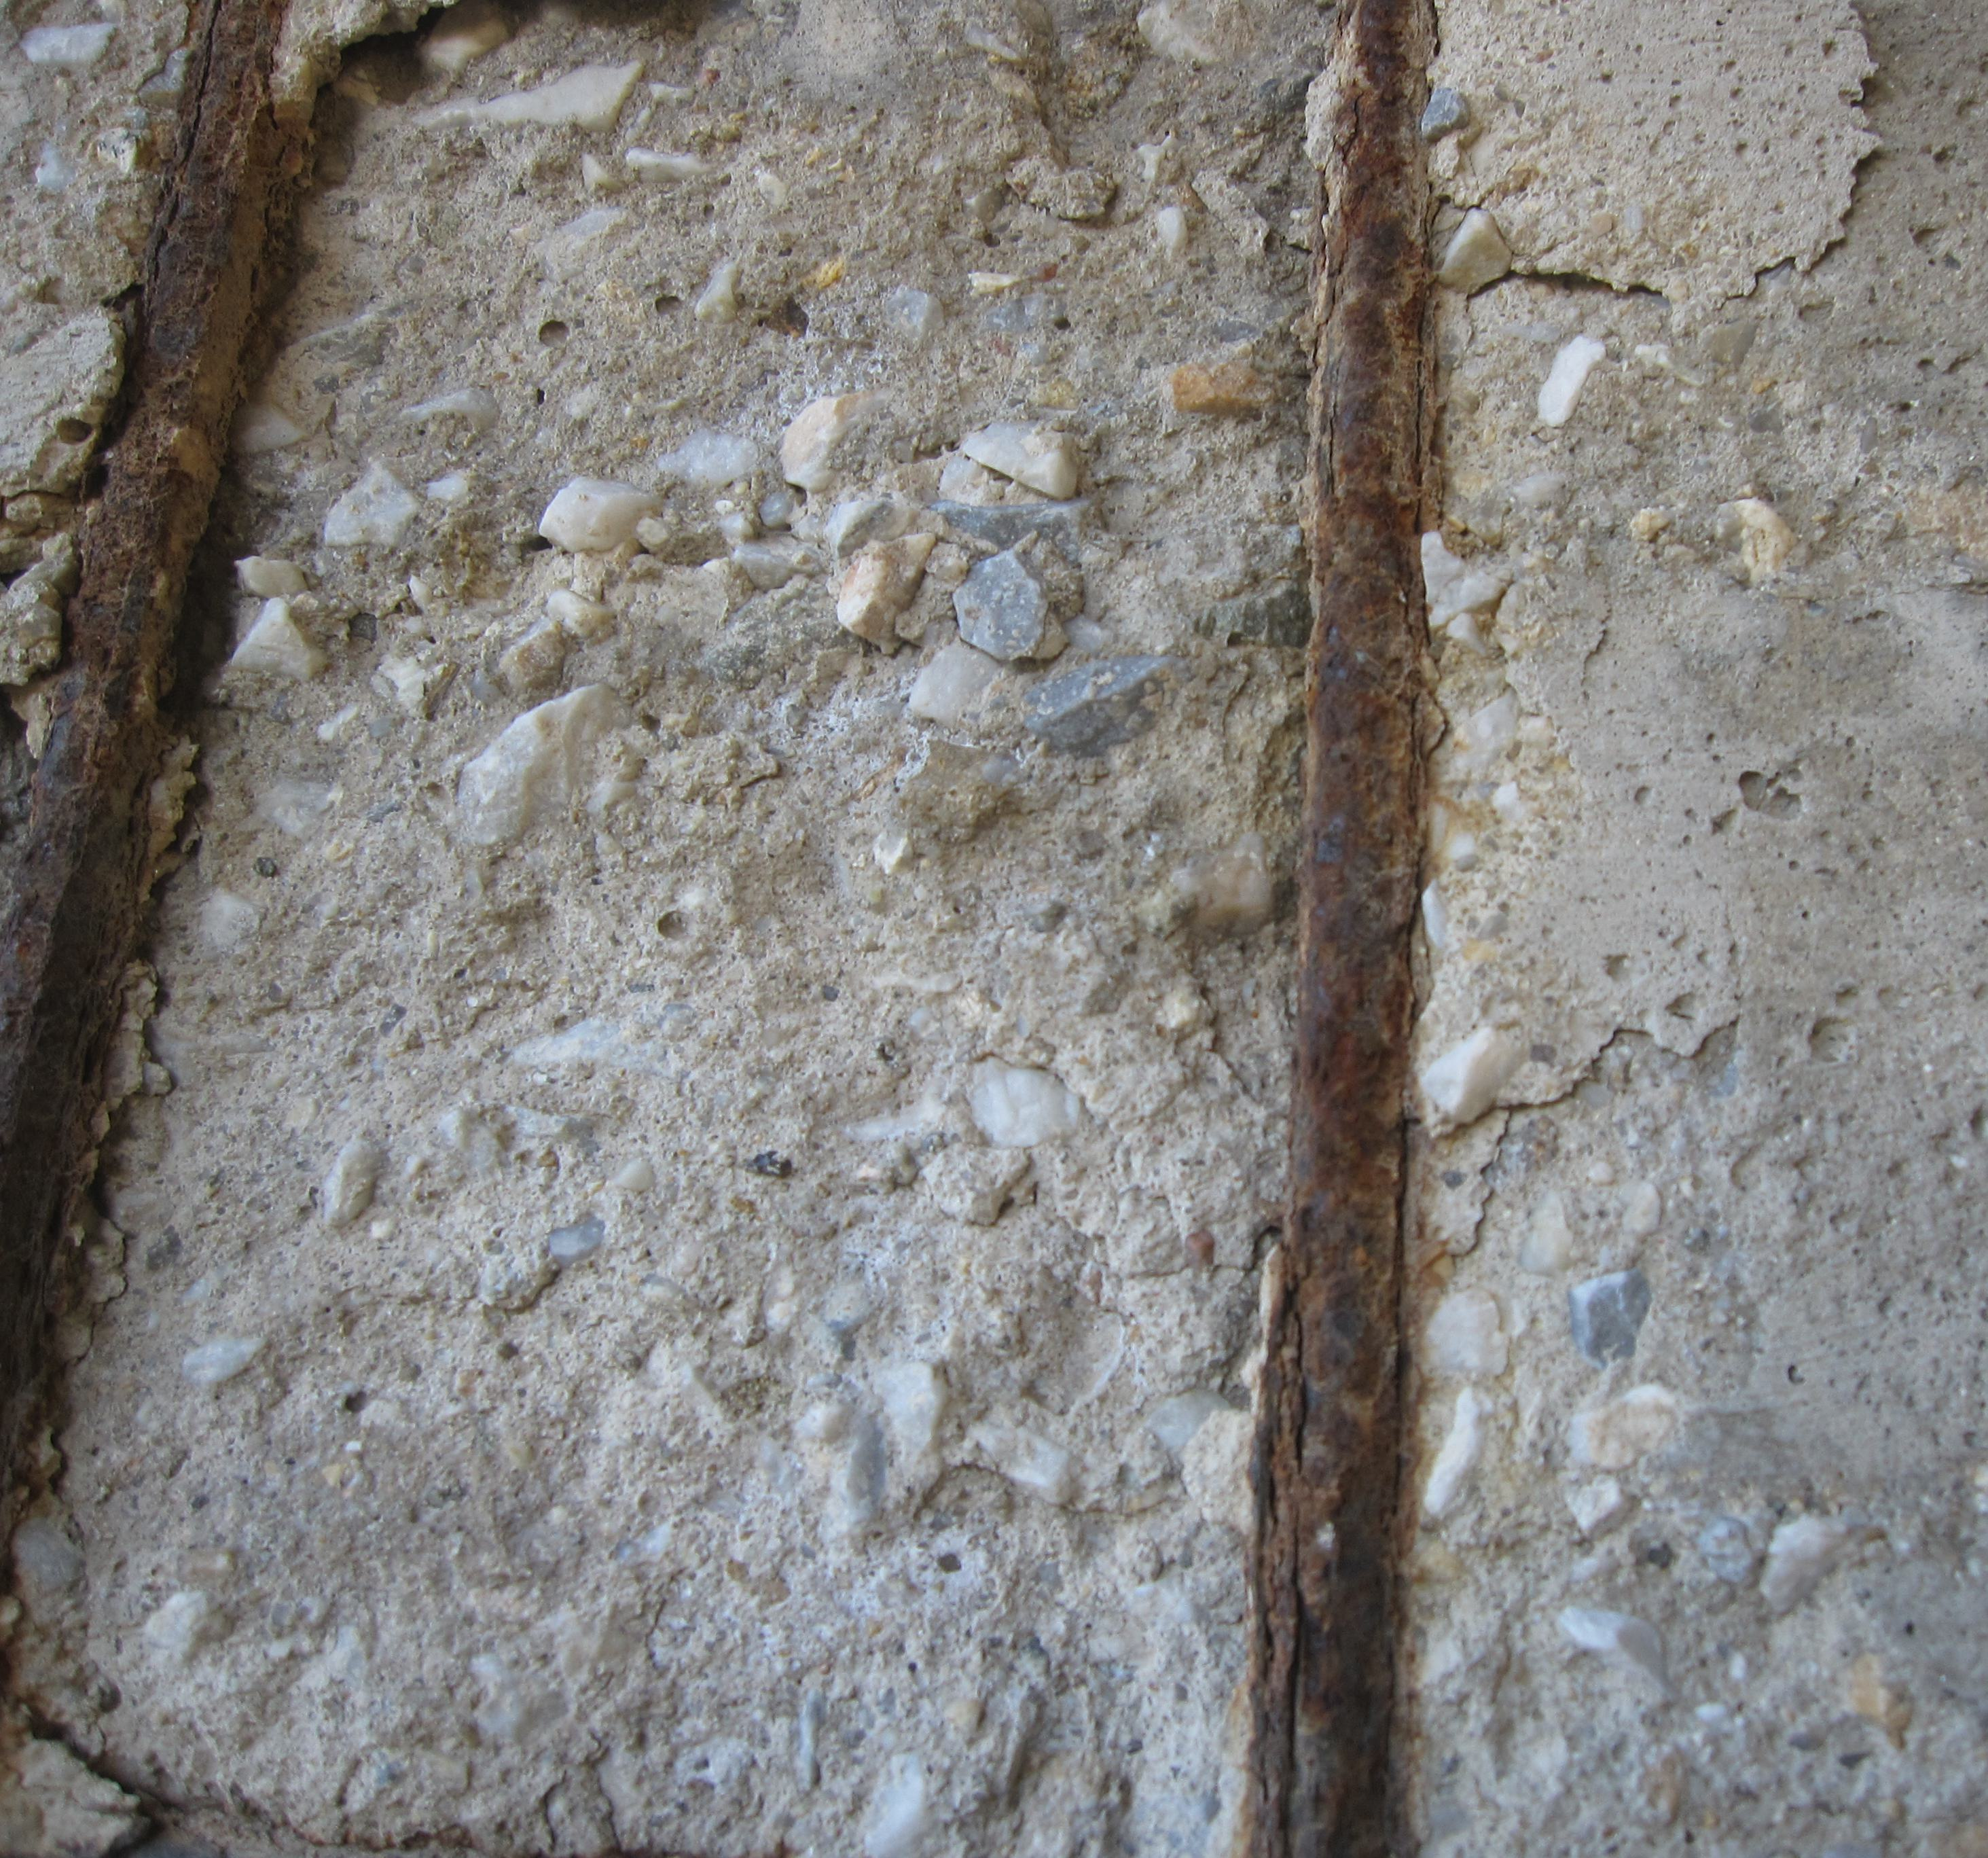Exposed reinforcement: (0, 0, 312, 1472), (1236, 0, 1433, 1858)
